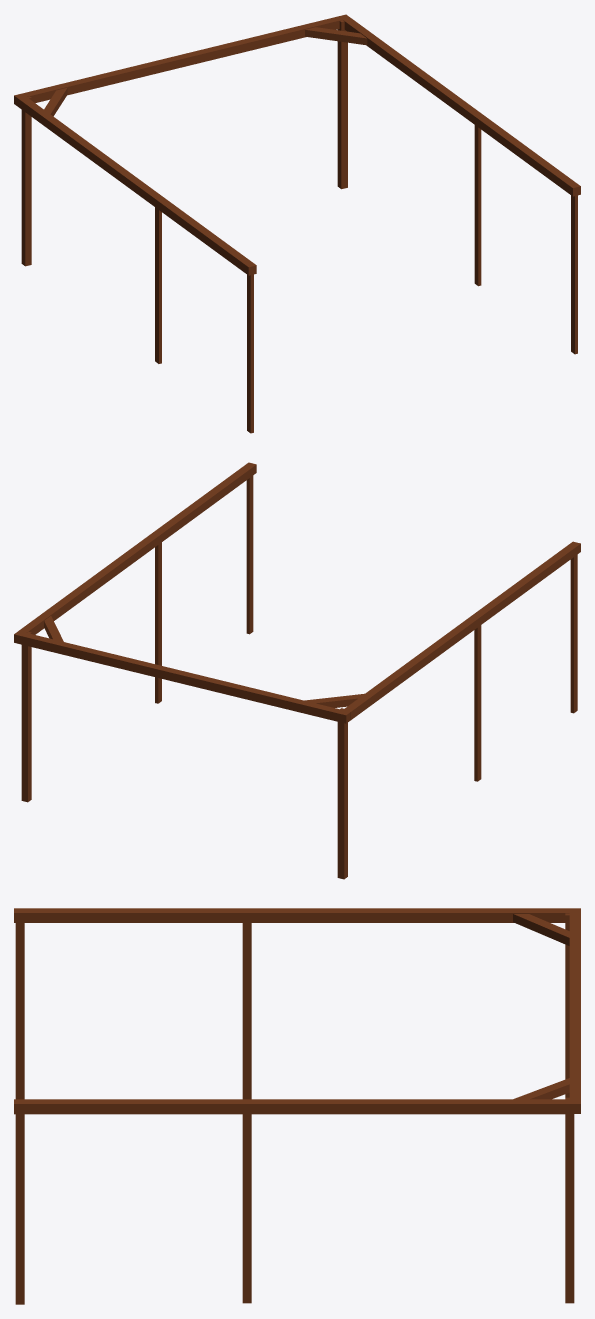
File: Shop_support_beams.fbx
3 renders of one model, top to bottom at view 1: azimuth 30°, elevation 25°; view 2: azimuth 150°, elevation 25°; view 3: azimuth 270°, elevation 25°, orthographic. The views are drawn at different scales.
Visible parts, largest first — view 1: Plank.008; view 2: Plank.008; view 3: Plank.008.
Part boxes in pixels (x1,y1,x2,y2): Plank.008: (14, 14, 580, 433); Plank.008: (14, 462, 580, 879); Plank.008: (14, 908, 580, 1304).
Size of the model in its own units: 829 by 399 by 1015.
